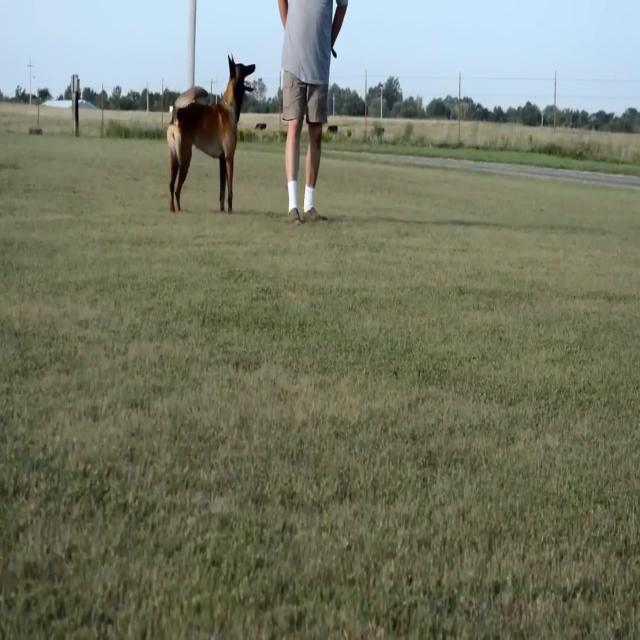Unleashed_Dog: (168, 53, 302, 209)
